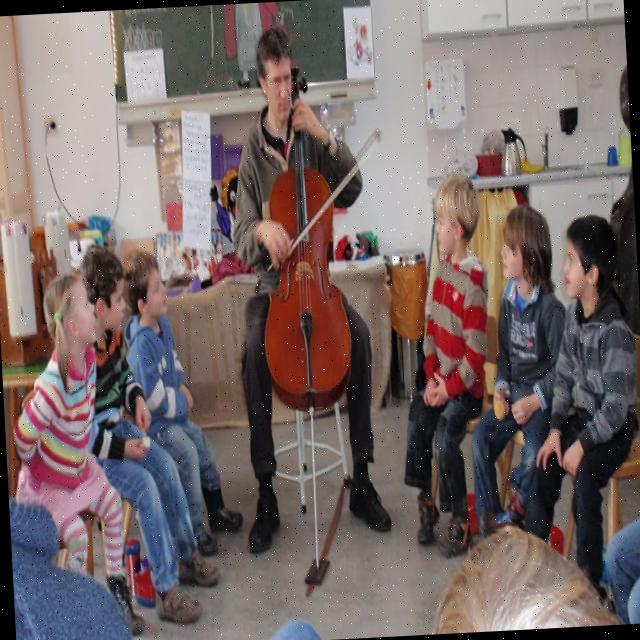cello: (248, 59, 358, 414)
